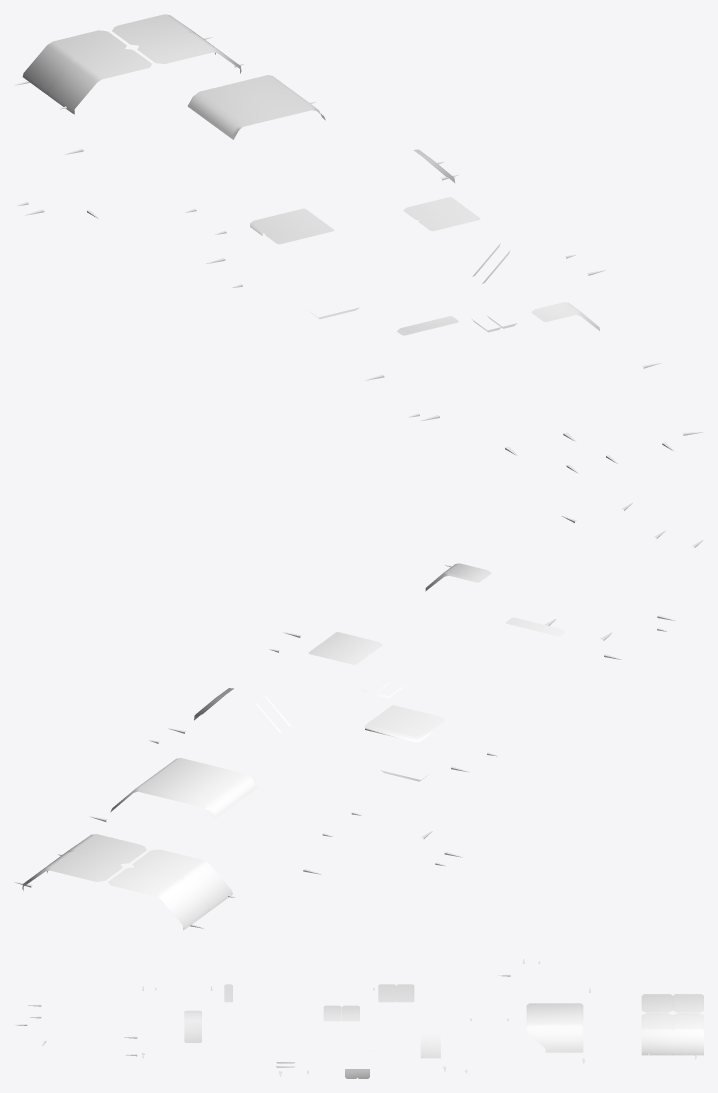
The model's file is hgn_fs_carr_01.glb.
The picture shows the model from 3 angles, top to bottom: view 1: azimuth 30°, elevation 25°; view 2: azimuth 150°, elevation 25°; view 3: azimuth 270°, elevation 25°; orthographic projection. The views are drawn at different scales.
Parts seen in each view (by area): view 1: hgn_flagship_carrier_01_LOD0; view 2: hgn_flagship_carrier_01_LOD0; view 3: hgn_flagship_carrier_01_LOD0.
Part boxes in pixels (x1,y1,x2,y2): hgn_flagship_carrier_01_LOD0: (14, 14, 703, 473); hgn_flagship_carrier_01_LOD0: (14, 502, 703, 930); hgn_flagship_carrier_01_LOD0: (14, 959, 703, 1078).
Size of what is drawn, in the model's own units: 5.56 by 1.32 by 14.
1 material, 1 textured.
